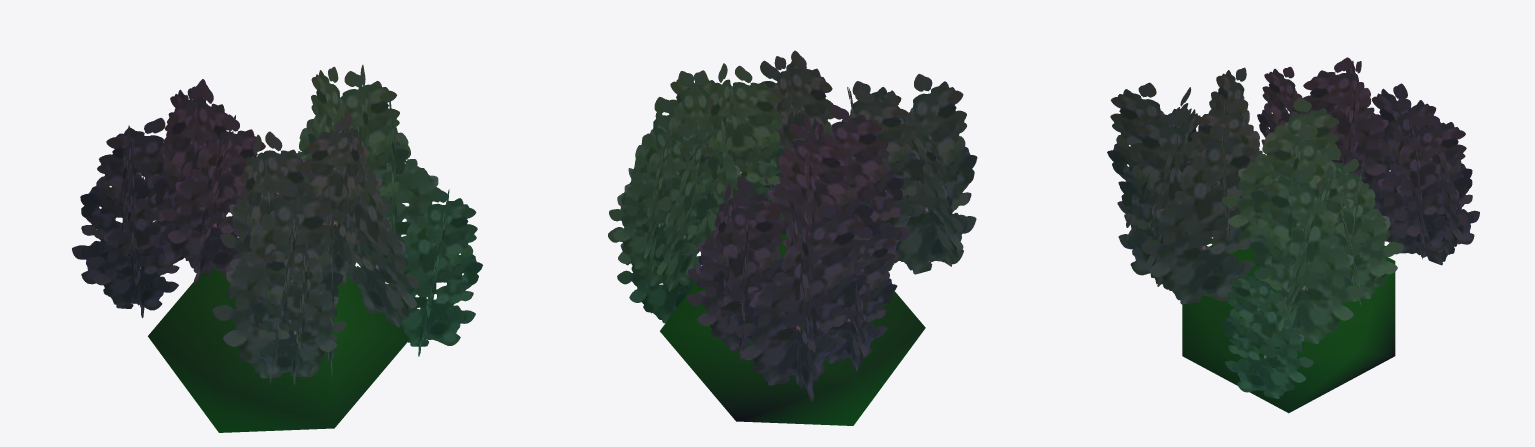
Rendered from nat_bush_dark_a_LOD2.glb.
3 renders of one model, left to right at view 1: azimuth 30°, elevation 25°; view 2: azimuth 150°, elevation 25°; view 3: azimuth 270°, elevation 25°, orthographic. The views are drawn at different scales.
Visible parts, largest first — view 1: geometry_0; view 2: geometry_0; view 3: geometry_0.
Boxes of the visible parts, x1,y1,x2,y2 form: geometry_0: (72, 65, 482, 432); geometry_0: (608, 50, 977, 425); geometry_0: (1107, 57, 1479, 413).
Size of the model in its own units: 1.01 by 0.8478 by 1.11.
1 material, 1 textured.
